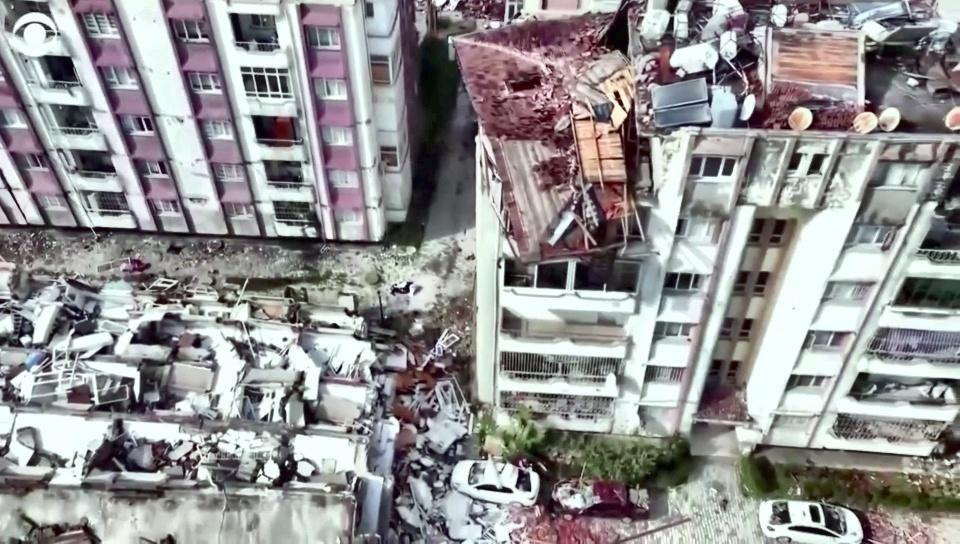kapali: (371, 213, 476, 543)
